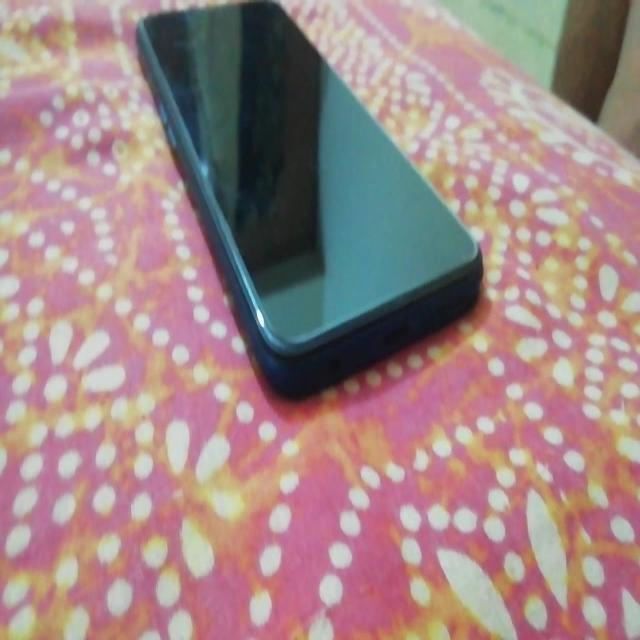Phone: (128, 1, 488, 404)
